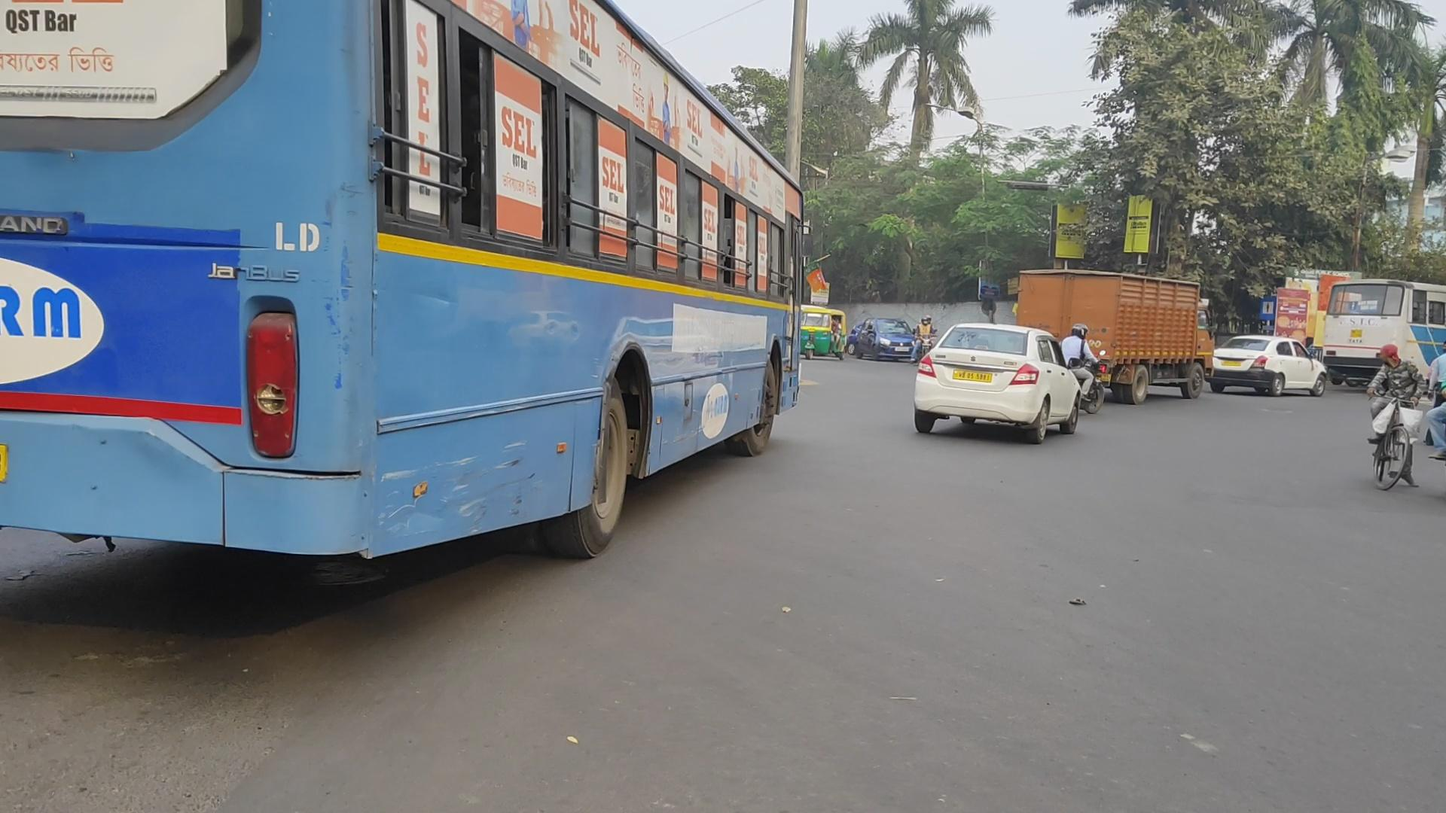Auto: (798, 306, 847, 362)
Bus: (1, 1, 812, 579), (1322, 279, 1446, 387)
bike: (1367, 344, 1426, 490), (1054, 324, 1105, 415), (912, 315, 939, 367)
car: (914, 322, 1081, 445), (1210, 335, 1326, 397), (855, 317, 917, 362)
truck: (1017, 269, 1215, 406)
